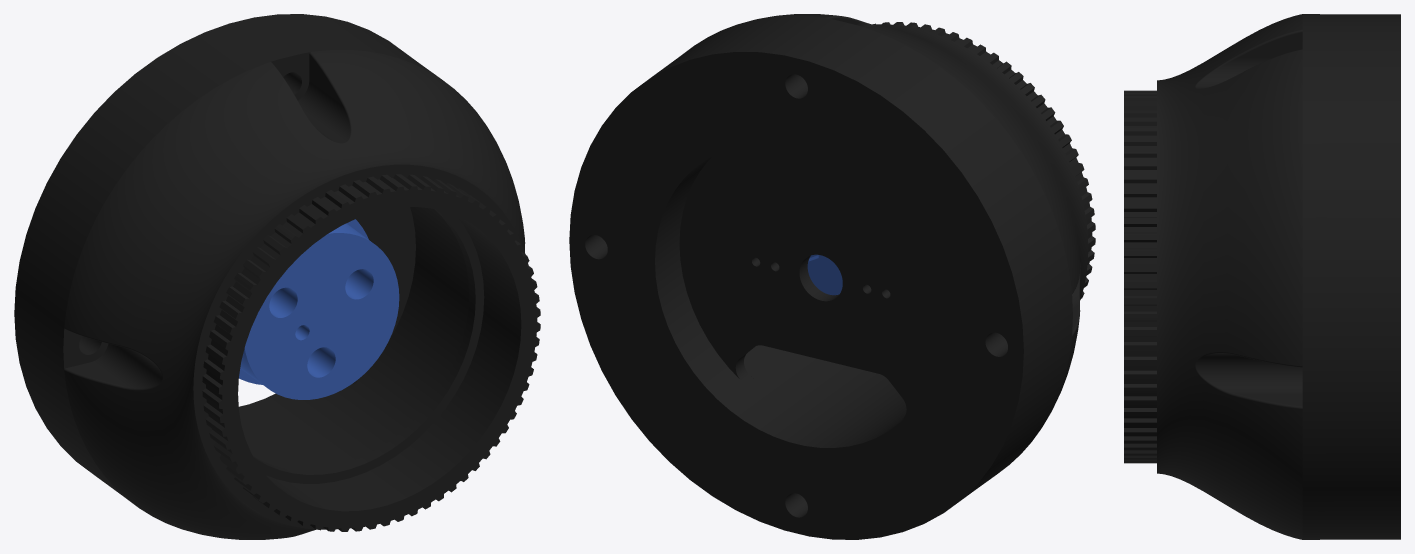
3 views of the same model, side by side, from view 1: azimuth 30°, elevation 25°; view 2: azimuth 150°, elevation 25°; view 3: azimuth 270°, elevation 25° (orthographic).
Visible parts, largest first — view 1: mesh36_mesh_31, mesh36_mesh_11, mesh376_mesh_1, mesh36_mesh_50, mesh36_mesh_42, mesh0_mesh_2, mesh36_mesh_48, mesh36_mesh_10, mesh36_mesh_51, mesh36_mesh_47, mesh376_mesh, mesh376_mesh_20 (+11 smaller); view 2: mesh376_mesh_2, mesh376_mesh_21, mesh376_mesh_1, mesh36_mesh_31, mesh376_mesh_12, mesh36_mesh_10, mesh36_mesh_42, mesh376_mesh, mesh36_mesh_9, mesh376_mesh_11, mesh0_mesh_28; view 3: mesh36_mesh_31, mesh376_mesh_1, mesh36_mesh_11, mesh36_mesh_10, mesh376_mesh, mesh36_mesh_9, mesh36_mesh_20, mesh36_mesh_35, mesh36_mesh_37, mesh36_mesh_22, mesh36_mesh_19.
Part boxes in pixels (bbox=[...]): mesh36_mesh_31: bbox=[64, 50, 524, 388]; mesh36_mesh_11: bbox=[64, 371, 315, 539]; mesh376_mesh_1: bbox=[14, 14, 419, 336]; mesh36_mesh_50: bbox=[218, 186, 540, 531]; mesh36_mesh_42: bbox=[244, 247, 469, 469]; mesh0_mesh_2: bbox=[244, 233, 399, 399]; mesh36_mesh_48: bbox=[266, 297, 521, 511]; mesh36_mesh_10: bbox=[47, 38, 439, 348]; mesh36_mesh_51: bbox=[193, 164, 528, 529]; mesh36_mesh_47: bbox=[254, 209, 484, 483]; mesh376_mesh: bbox=[14, 314, 111, 487]; mesh376_mesh_20: bbox=[355, 207, 415, 383]; mesh376_mesh_2: bbox=[569, 52, 1023, 539]; mesh376_mesh_21: bbox=[679, 143, 938, 418]; mesh376_mesh_1: bbox=[651, 28, 1056, 350]; mesh36_mesh_31: bbox=[754, 14, 1088, 293]; mesh376_mesh_12: bbox=[655, 243, 904, 447]; mesh36_mesh_10: bbox=[683, 16, 1072, 326]; mesh36_mesh_42: bbox=[744, 345, 906, 423]; mesh376_mesh: bbox=[950, 328, 1056, 508]; mesh36_mesh_9: bbox=[981, 316, 1072, 485]; mesh376_mesh_11: bbox=[655, 156, 712, 260]; mesh0_mesh_28: bbox=[807, 255, 842, 292]; mesh36_mesh_31: bbox=[1157, 14, 1302, 365]; mesh376_mesh_1: bbox=[1335, 14, 1400, 387]; mesh36_mesh_11: bbox=[1157, 360, 1302, 539]; mesh36_mesh_10: bbox=[1302, 14, 1335, 387]; mesh376_mesh: bbox=[1335, 388, 1400, 539]; mesh36_mesh_9: bbox=[1302, 388, 1335, 539]; mesh36_mesh_20: bbox=[1196, 365, 1302, 394]; mesh36_mesh_35: bbox=[1196, 58, 1272, 88]; mesh36_mesh_37: bbox=[1238, 32, 1302, 57]; mesh36_mesh_22: bbox=[1196, 353, 1285, 365]; mesh36_mesh_19: bbox=[1238, 394, 1302, 406].
Size of the model in its own units: 0.1606 by 0.1604 by 0.0845.
